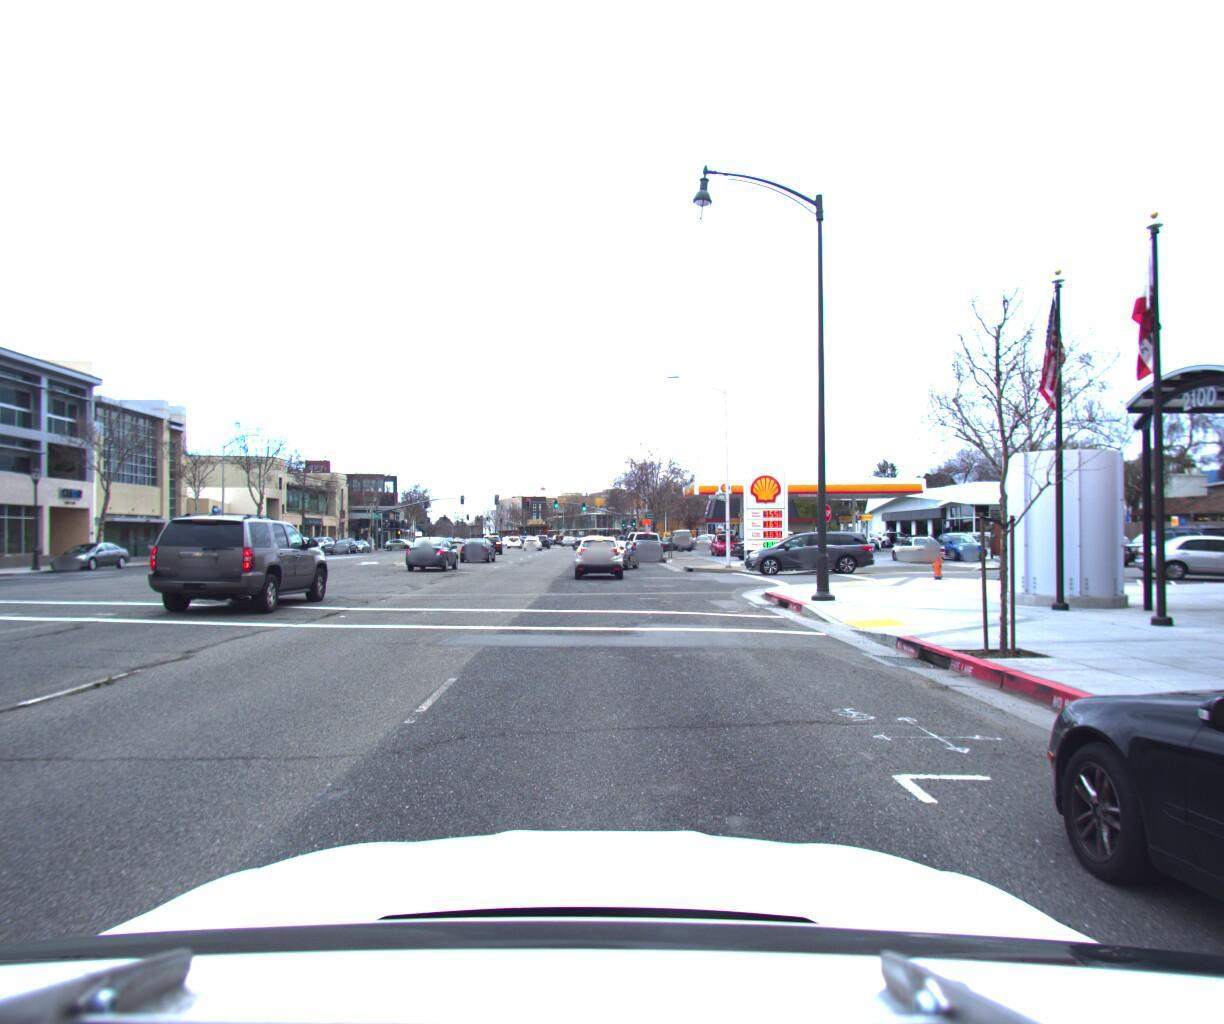car: (1013, 562, 1224, 1024), (145, 503, 336, 614), (740, 523, 875, 569), (1095, 519, 1211, 562), (1128, 525, 1224, 576), (46, 534, 140, 566), (571, 527, 624, 575), (400, 531, 461, 569), (882, 524, 946, 555), (921, 523, 987, 552), (593, 533, 649, 565), (456, 522, 498, 555), (628, 523, 664, 554), (868, 521, 915, 539), (708, 524, 740, 547), (330, 529, 361, 548), (669, 520, 695, 541), (526, 529, 546, 544)
